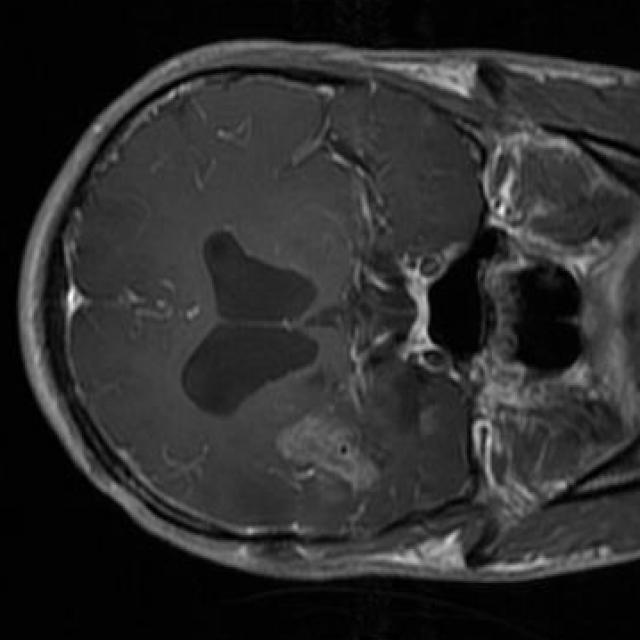glioma: (276, 417, 382, 492)
